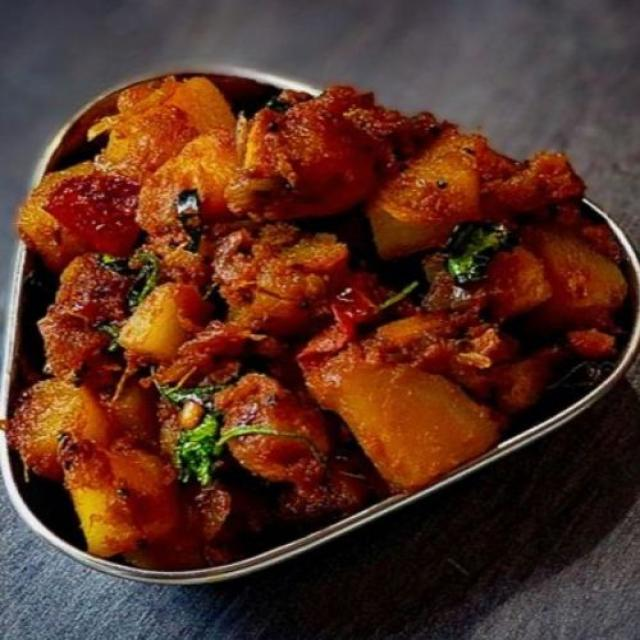CURRY: (24, 45, 640, 598)
